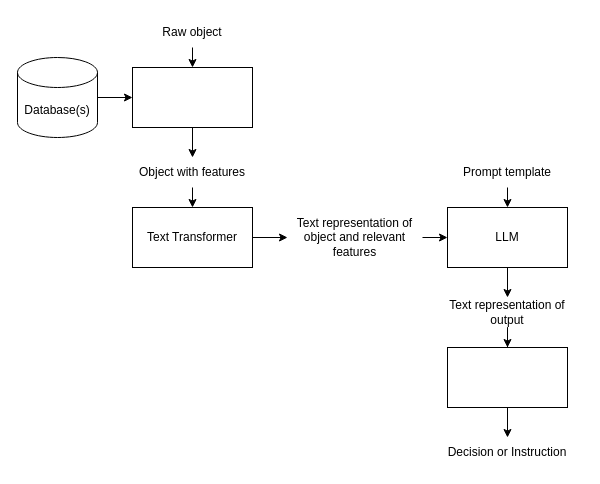
This 600x484 diagram has some shape labels left out. The centre of each missing label's shape, as x and y in pixels:
"Feature Hydrator" belongs at pixel 192 97.
"Text Interpreter" belongs at pixel 507 377.
